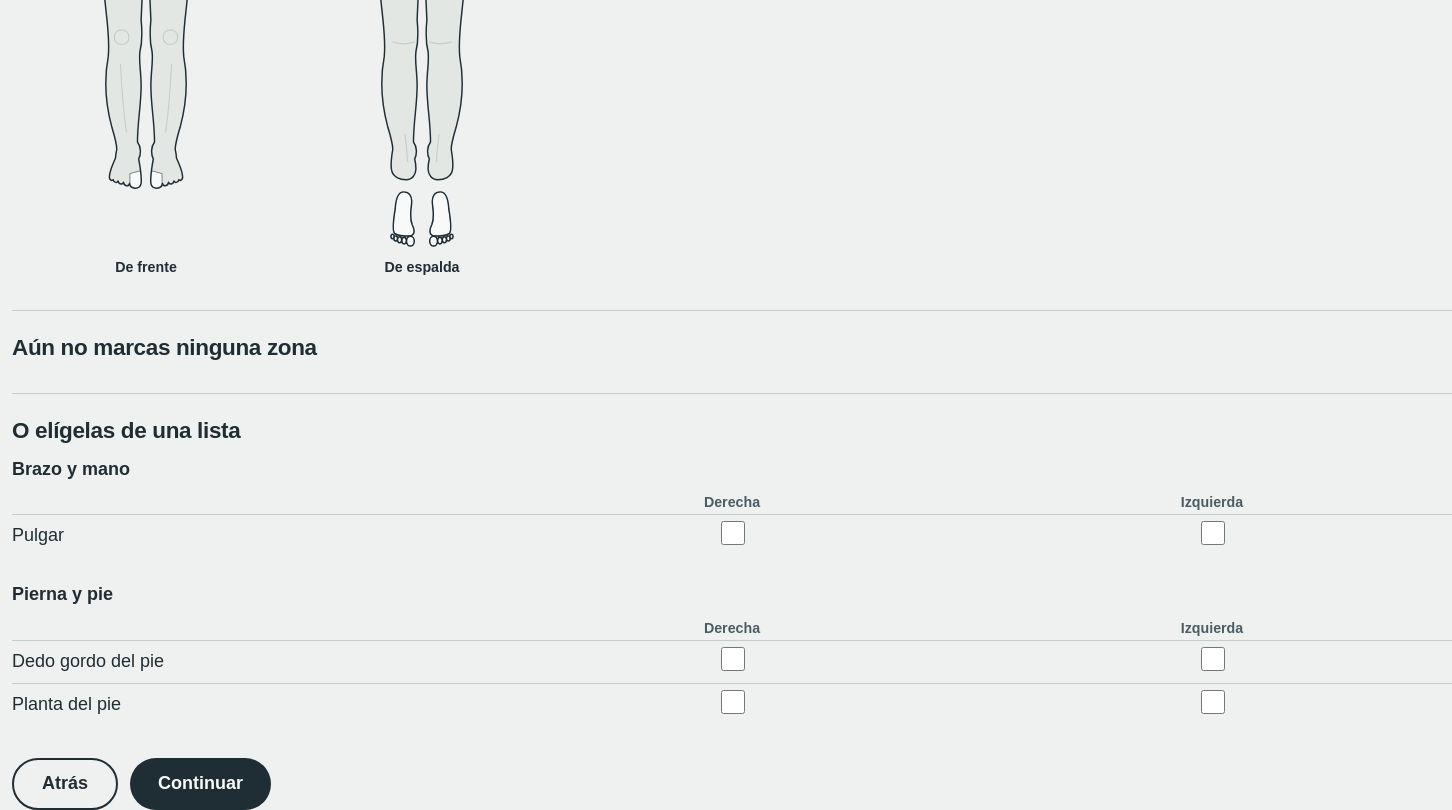
Test: MapStep › si el dolor se irradia, pide al menos una zona
(page scrolled)
Click the button "Continuar" at (200, 784), box [130, 758, 271, 809]
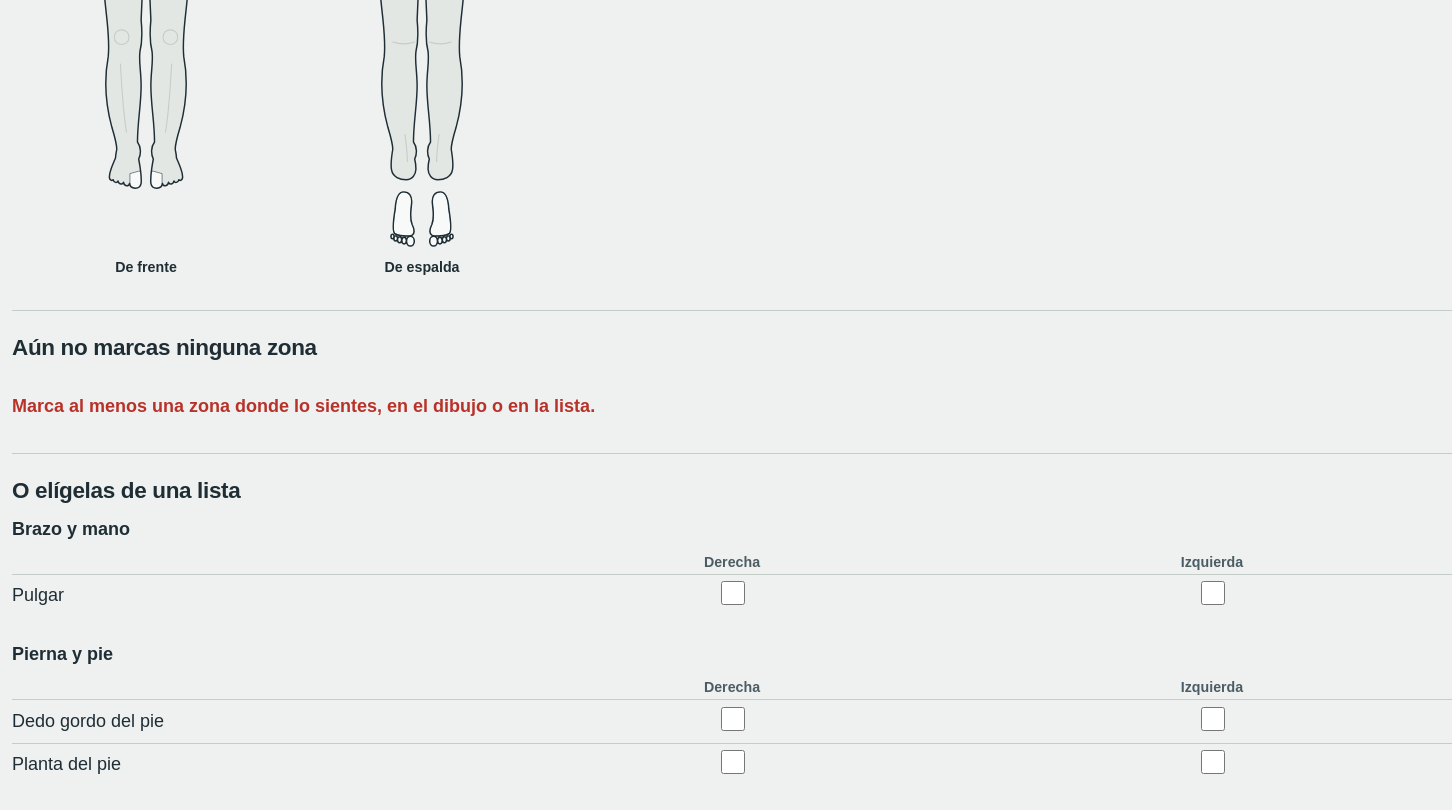
Check: the message shows "Marca al menos una zona", box [12, 396, 595, 416]
